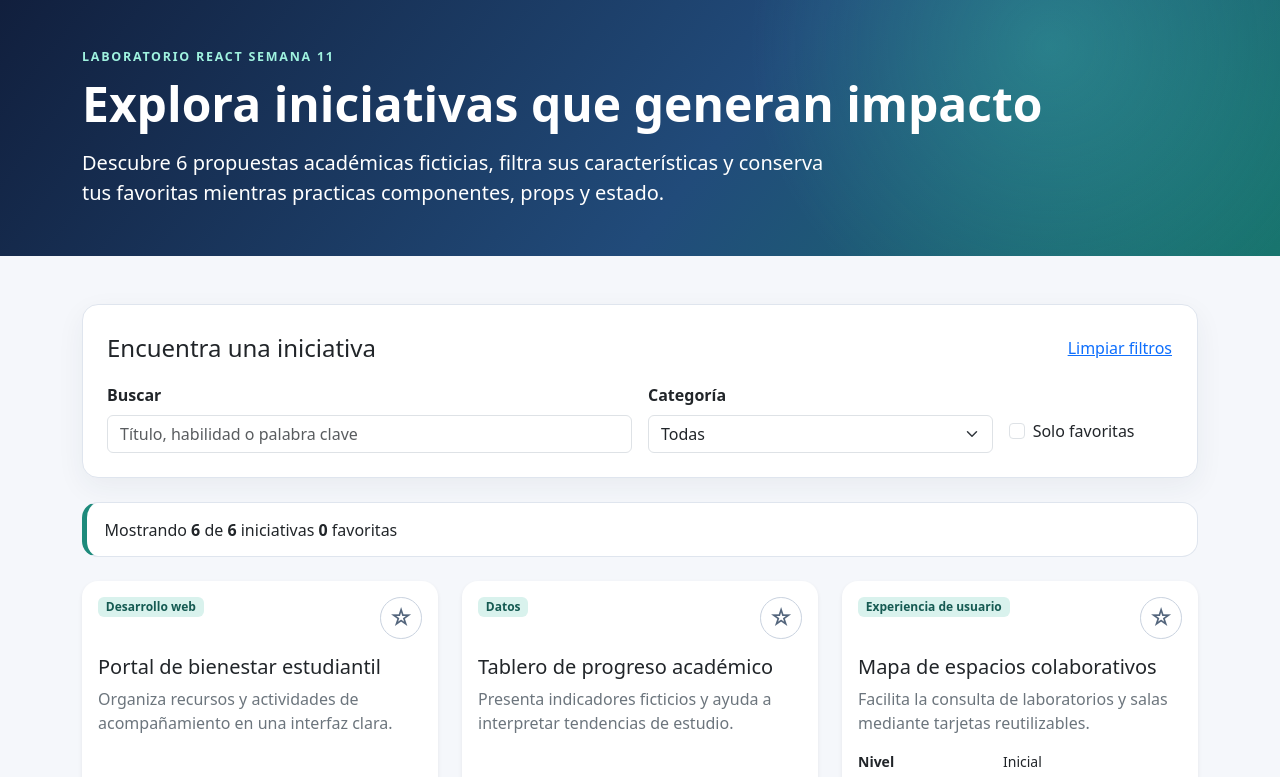
Test: App › adds and removes a favorite
Click the button named "agregar a favoritas". click: coordinates (401, 618)
box: x1=380 y1=597 x2=422 y2=639
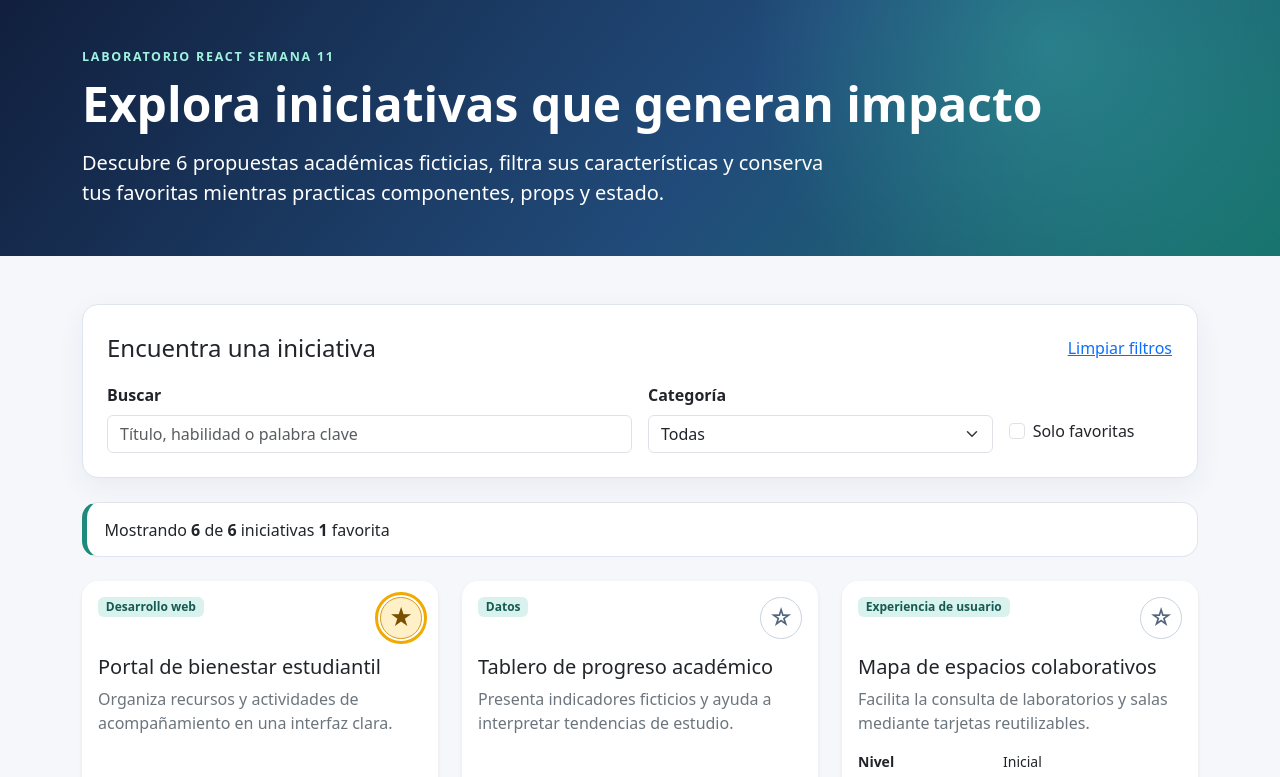
expect the text "Mostrando 6 de 6 iniciativas 1 favorita" is shown: met, box x1=105 y1=519 x2=390 y2=541
Click the button named "quitar de favoritas". click: coordinates (401, 618)
box: x1=380 y1=597 x2=422 y2=639
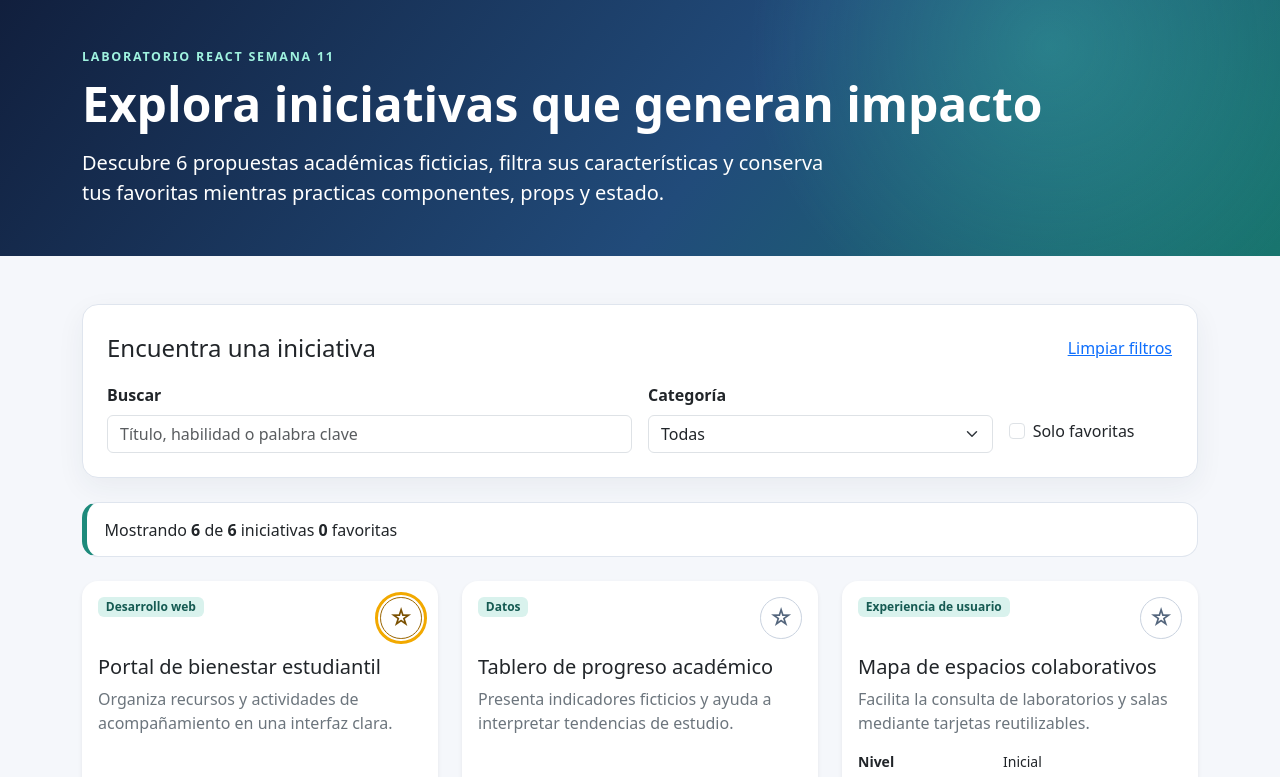
expect the text "Mostrando 6 de 6 iniciativas 0 favoritas" is shown: met, box x1=105 y1=519 x2=397 y2=541
